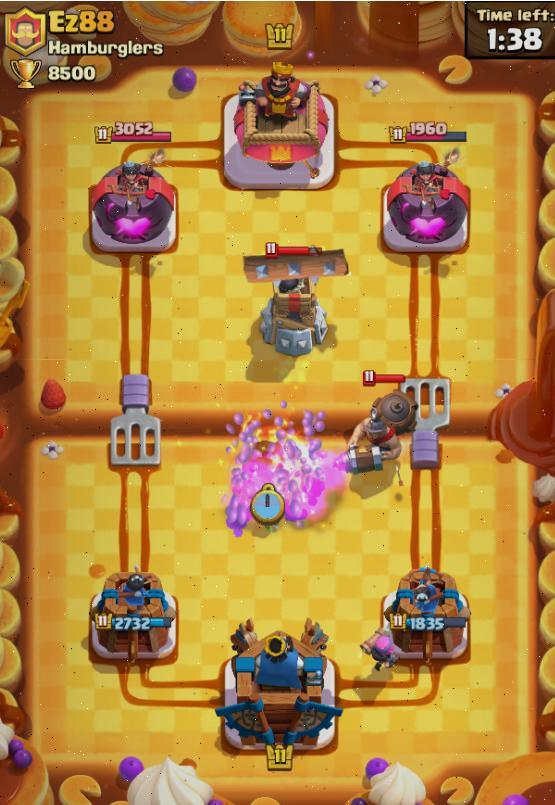EBombertower: (259, 278, 327, 356)
EKingTower: (223, 63, 335, 189)
EMightyMiner: (346, 372, 417, 474)
EnemyPrincessTower: (382, 161, 469, 253), (90, 160, 175, 253)
OFirecrack: (360, 628, 398, 670)
OwnKingTower: (216, 620, 341, 750)
OwnPrincessTower: (383, 567, 469, 663), (89, 570, 176, 662)
